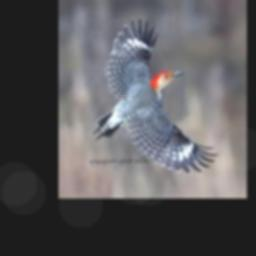Woodpecker: (92, 17, 218, 174)
